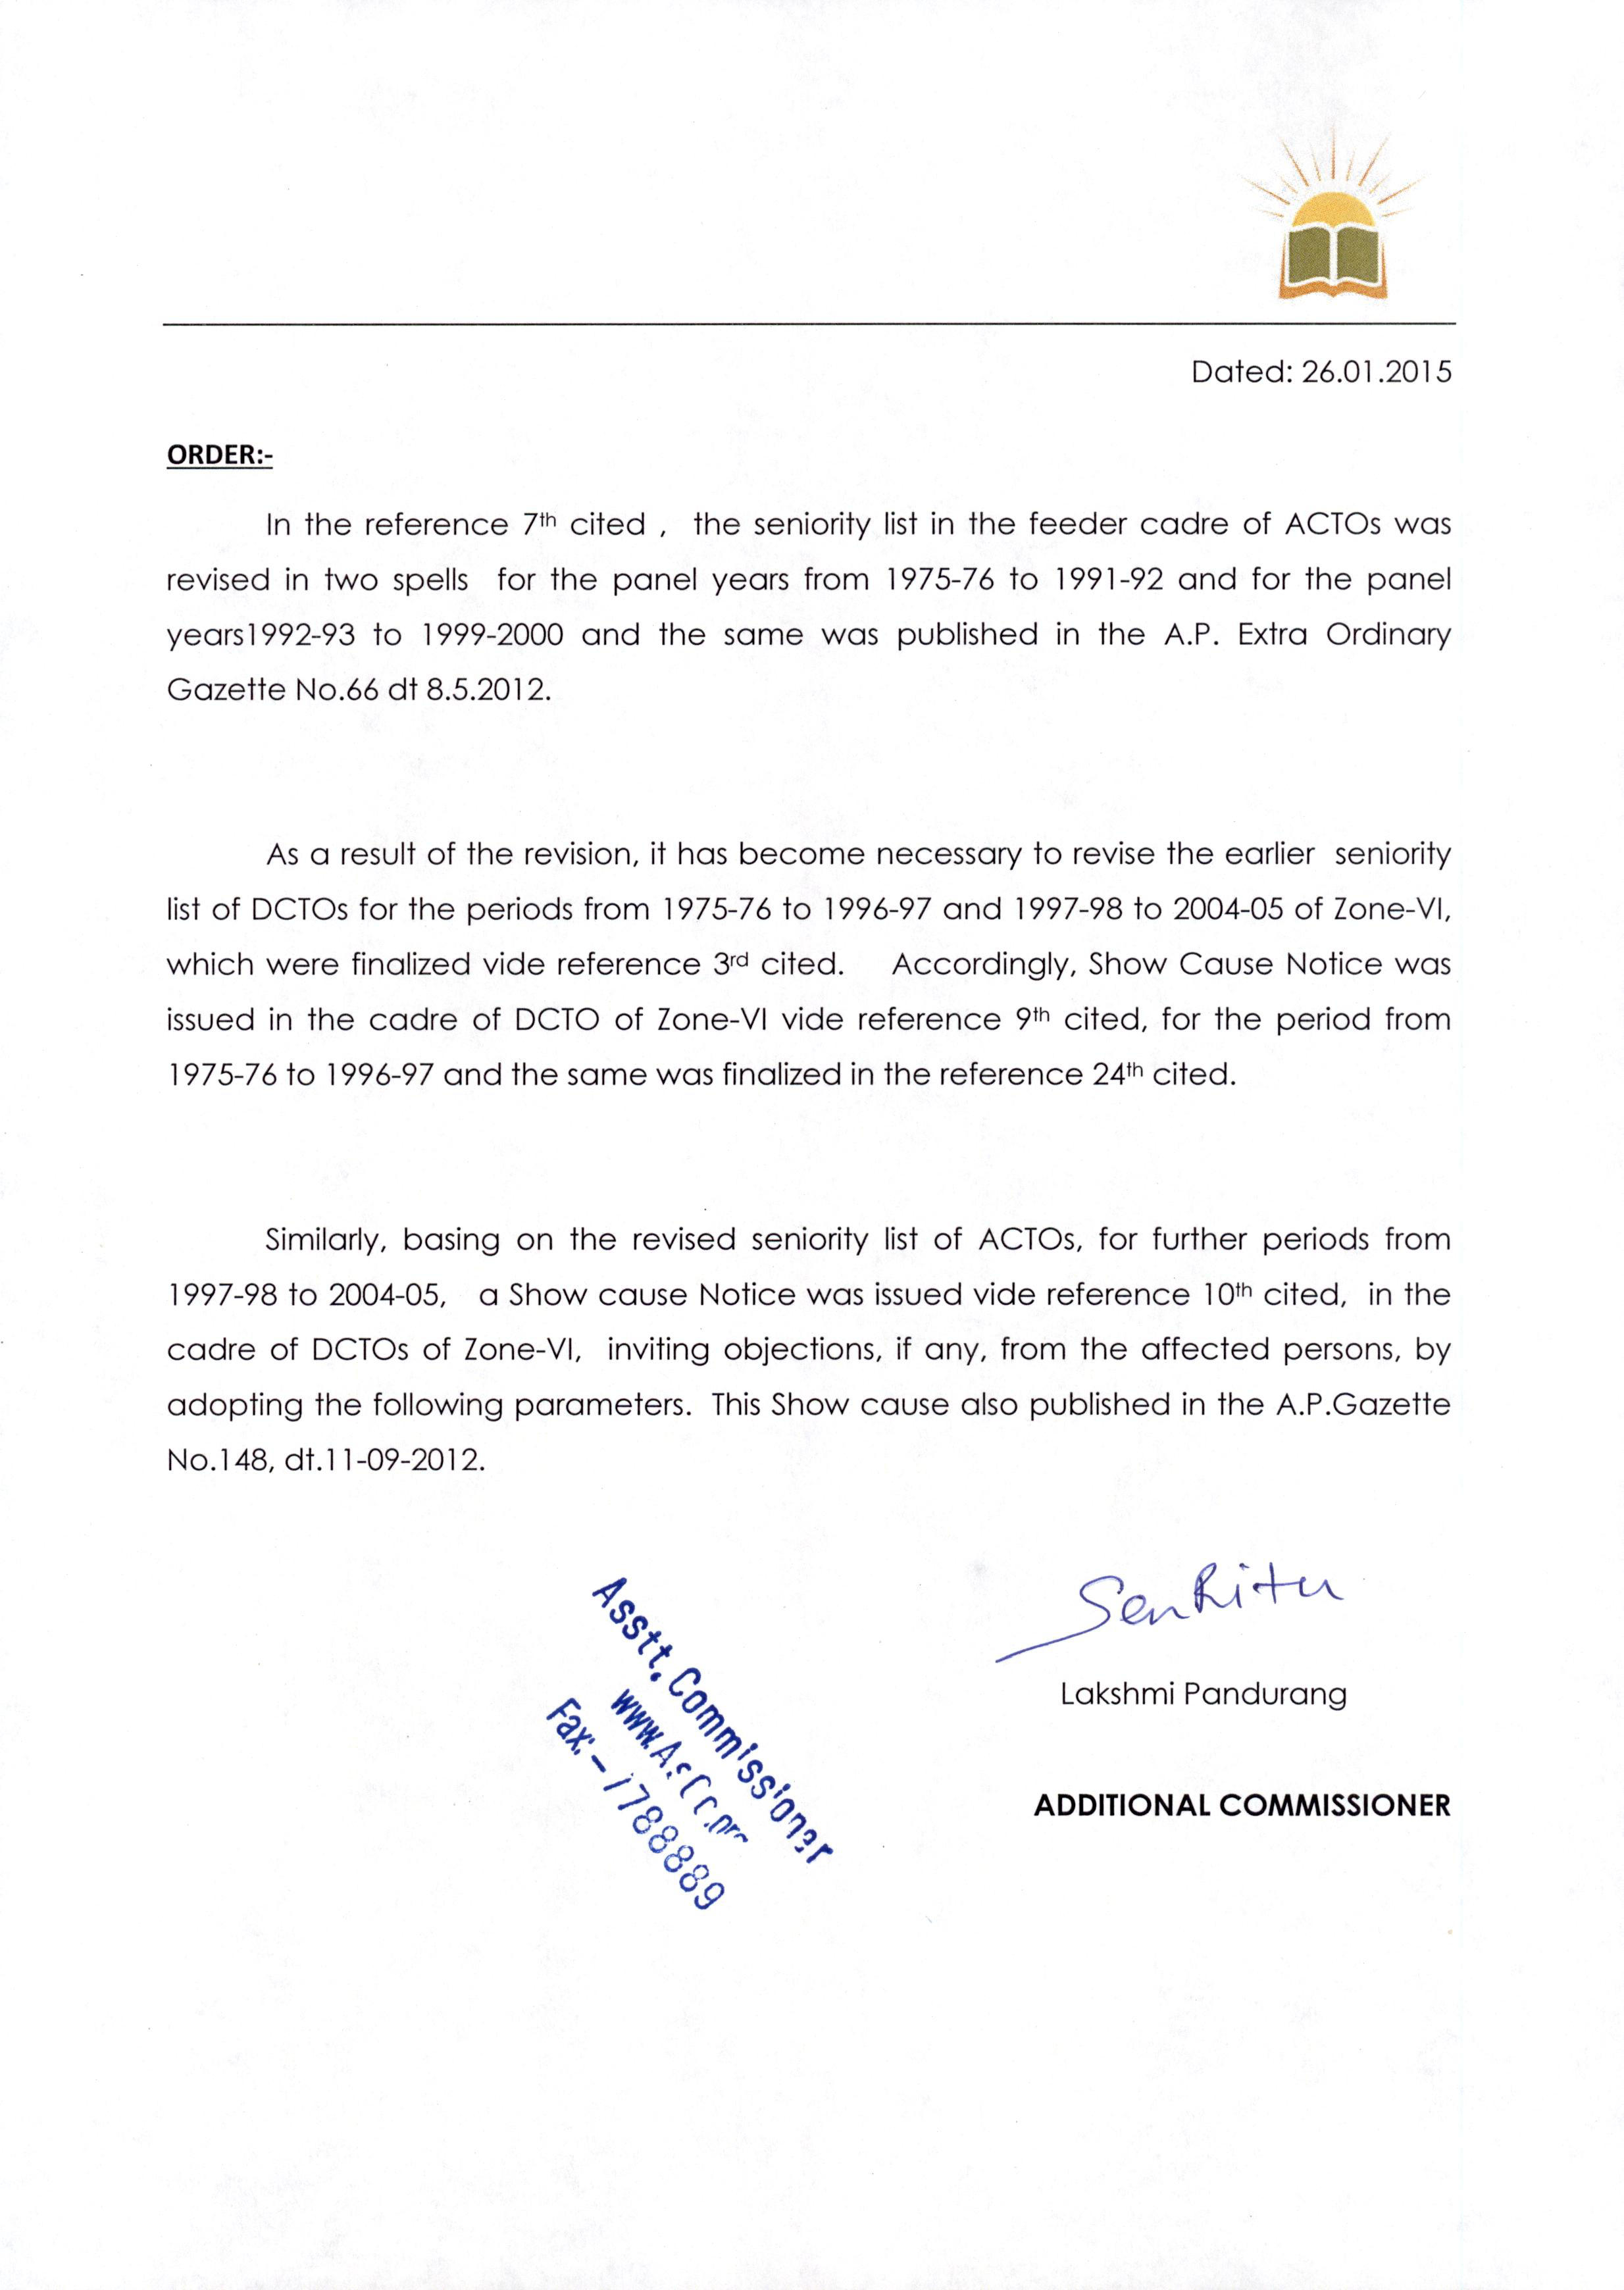Signature: (979, 1554, 1353, 1668)
